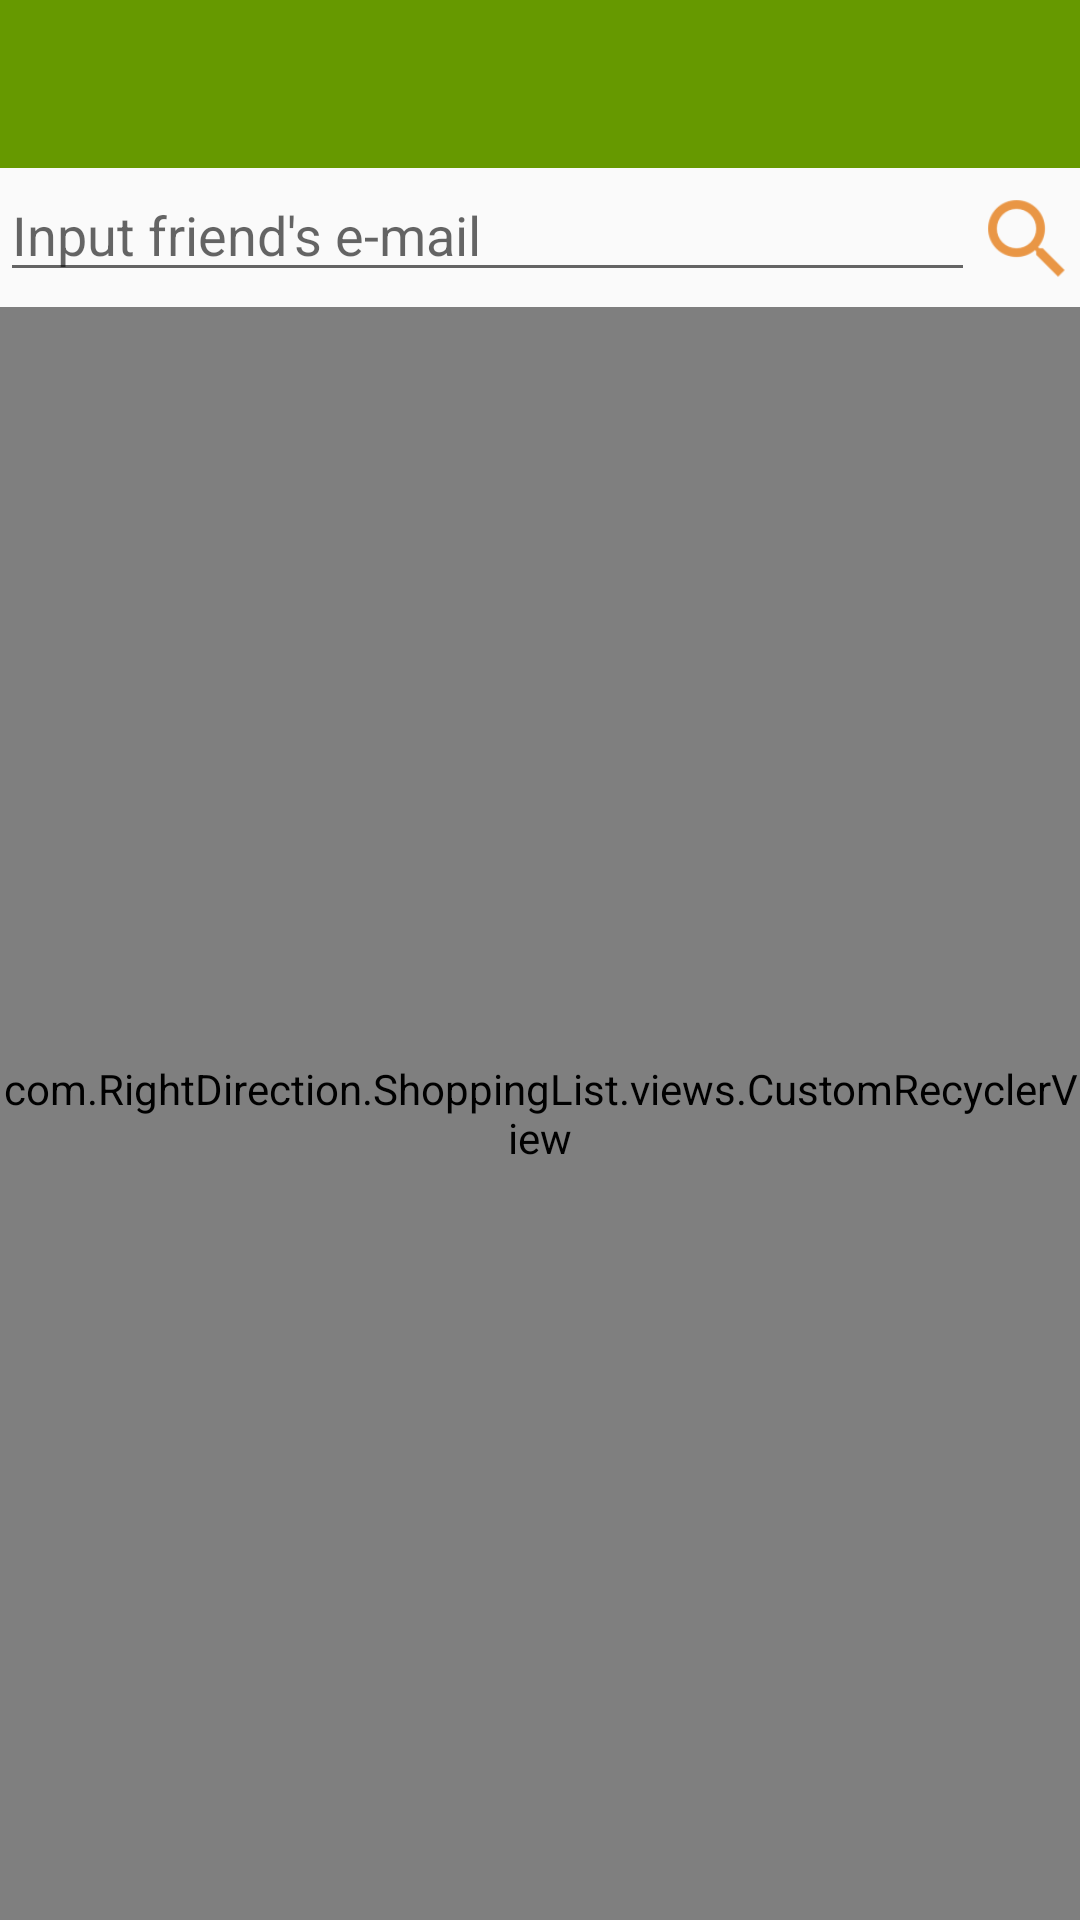

Icons on this 1080x1920 Android screen, each with its box as (x1, y1, x2, y2):
Search friend: (988, 200, 1065, 277)
